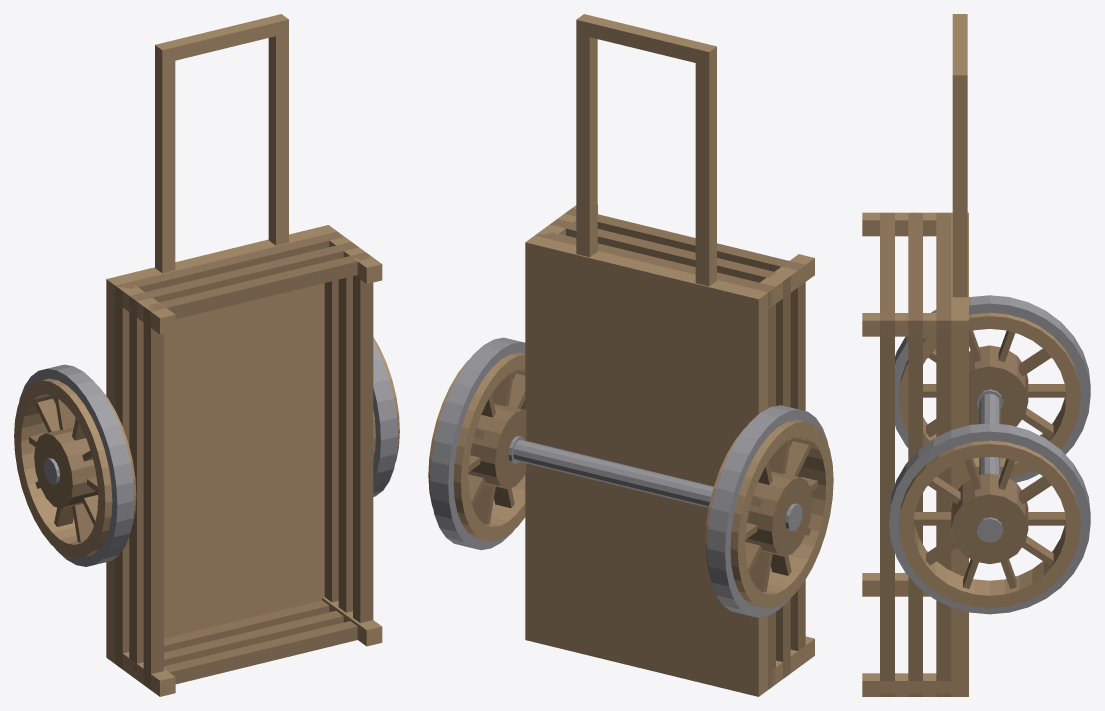
File: holzwagen_t2.glb
The picture shows the model from 3 angles, left to right: view 1: azimuth 30°, elevation 25°; view 2: azimuth 150°, elevation 25°; view 3: azimuth 270°, elevation 25°; orthographic projection. The views are drawn at different scales.
Parts seen in each view (by area): view 1: p0, p9, p19, p10, p18, p6, p5, p2, p46, p47, p12, p11 (+12 smaller); view 2: p0, p19, p18, p32, p33, p46, p47, p17, p20, p34, p48, p9 (+9 smaller); view 3: p33, p32, p10, p0, p34, p19, p18, p2, p6, p47, p20, p15 (+18 smaller).
Part boxes in pixels (<box>): p0: <box>106,225,336,663</box>; p9: <box>143,303,163,689</box>; p19: <box>14,378,136,558</box>; p10: <box>353,252,373,622</box>; p18: <box>19,364,134,566</box>; p6: <box>338,242,358,612</box>; p5: <box>129,294,149,663</box>; p2: <box>324,231,342,602</box>; p46: <box>155,52,175,273</box>; p47: <box>268,26,288,245</box>; p12: <box>144,252,370,323</box>; p11: <box>164,621,357,684</box>; p0: <box>525,235,767,696</box>; p19: <box>705,420,833,608</box>; p18: <box>707,405,828,617</box>; p32: <box>430,337,525,550</box>; p33: <box>428,352,525,541</box>; p46: <box>695,54,716,286</box>; p47: <box>576,27,597,257</box>; p17: <box>513,439,713,507</box>; p20: <box>745,471,812,556</box>; p34: <box>468,403,526,489</box>; p48: <box>576,14,716,65</box>; p9: <box>790,264,805,651</box>; p33: <box>899,440,1080,608</box>; p32: <box>889,423,1090,614</box>; p10: <box>880,314,894,696</box>; p0: <box>951,212,968,696</box>; p34: <box>951,473,1028,564</box>; p19: <box>899,312,1080,478</box>; p18: <box>895,295,1090,482</box>; p2: <box>936,314,951,696</box>; p6: <box>908,314,922,696</box>; p47: <box>952,82,967,297</box>; p20: <box>969,345,1028,426</box>; p15: <box>862,673,951,696</box>.
Bounding box in the file's own units: 1.21 × 2.22 × 0.77.
